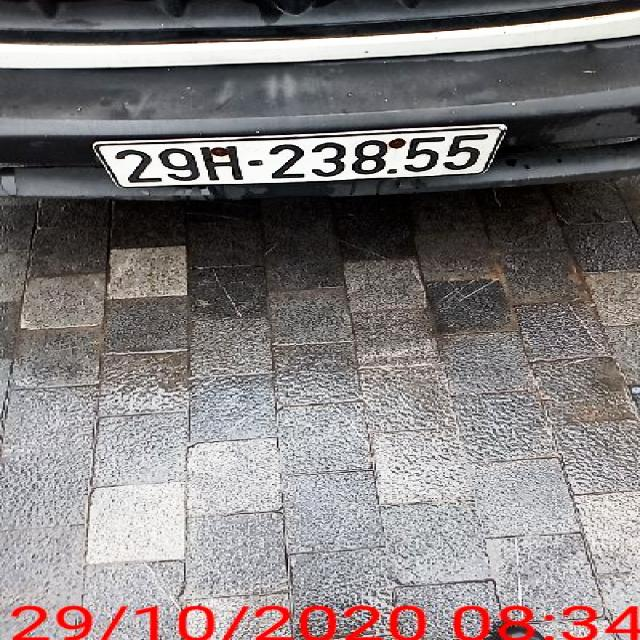license_plate: (102, 125, 506, 188)
